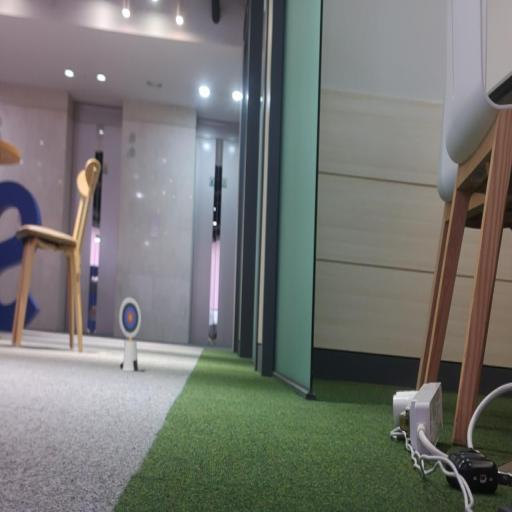target: (119, 297, 140, 338)
